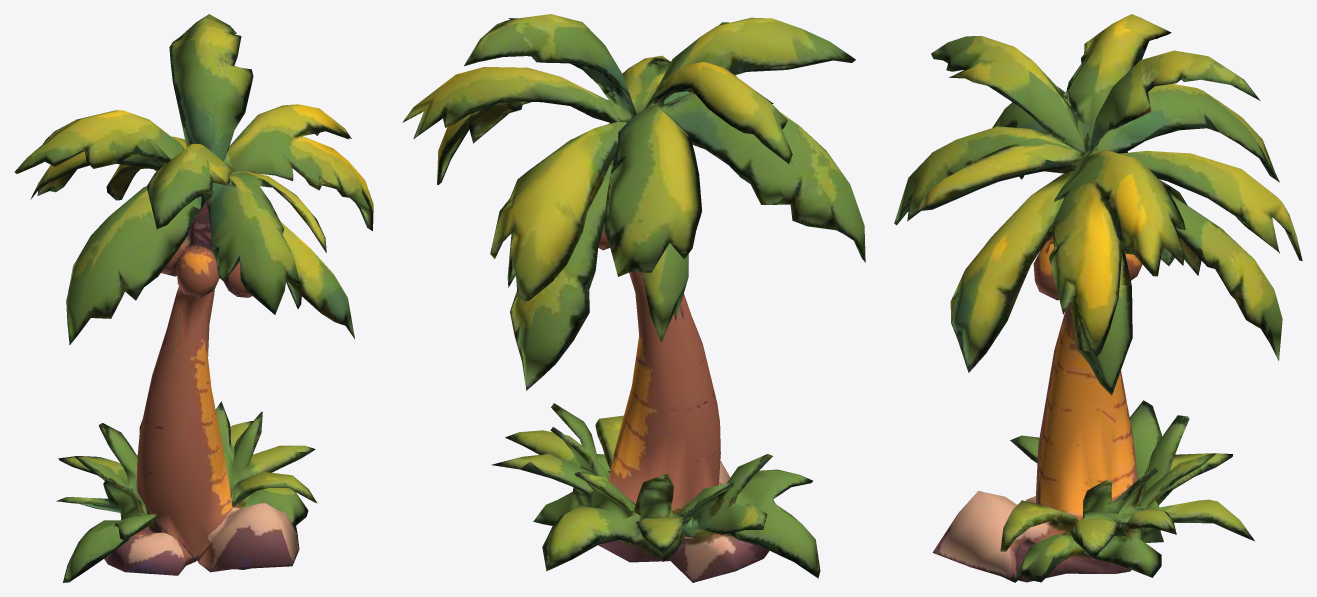
File: palma.glb
3 views of the same model, side by side, from view 1: azimuth 30°, elevation 25°; view 2: azimuth 150°, elevation 25°; view 3: azimuth 270°, elevation 25° (orthographic). The views are drawn at different scales.
Visible parts, largest first — view 1: geometry_0; view 2: geometry_0; view 3: geometry_0.
Boxes of the visible parts, x1=… form: geometry_0: x1=14, y1=14, x2=373, y2=582; geometry_0: x1=402, y1=14, x2=865, y2=582; geometry_0: x1=894, y1=14, x2=1302, y2=582.
Bounding box in the file's own units: 5.63 × 7.5 × 5.13.
1 material, 1 textured.
